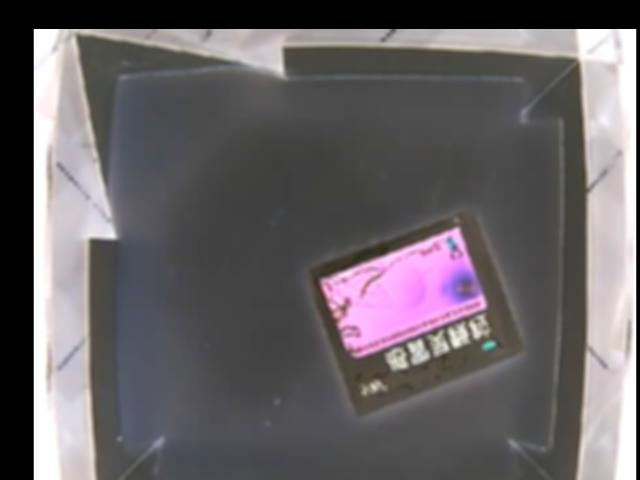Medicine: (309, 206, 526, 417)
